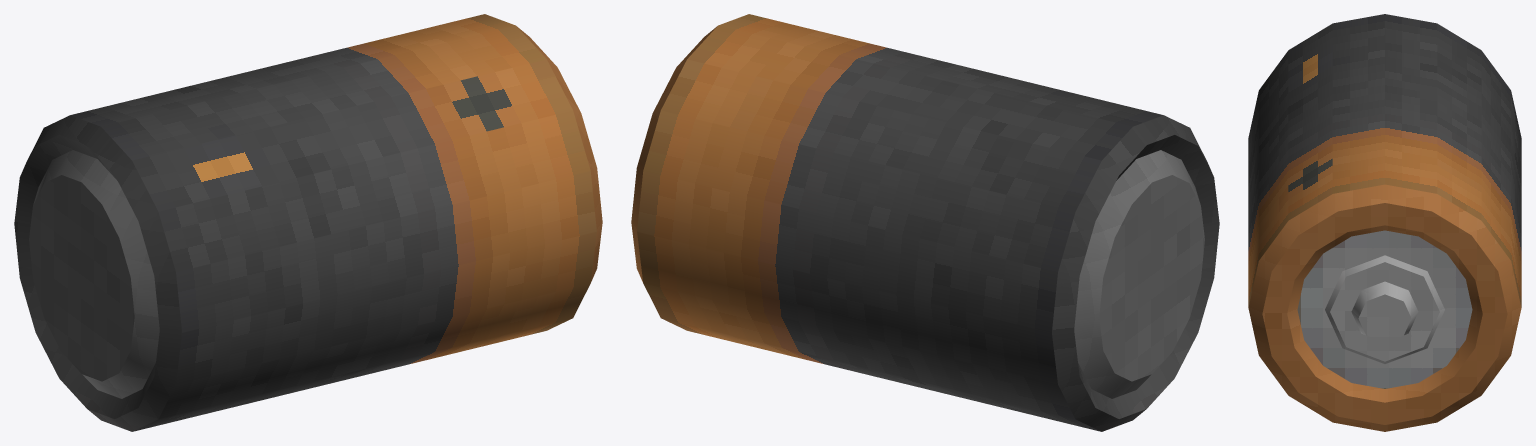
File: battery_mp_2.glb
3 renders of one model, left to right at view 1: azimuth 30°, elevation 25°; view 2: azimuth 150°, elevation 25°; view 3: azimuth 270°, elevation 25°, orthographic. The views are drawn at different scales.
Parts seen in each view (by area): view 1: battery_mp_2; view 2: battery_mp_2; view 3: battery_mp_2.
Part boxes in pixels (x1=…): battery_mp_2: x1=14, y1=14, x2=602, y2=431; battery_mp_2: x1=631, y1=14, x2=1219, y2=431; battery_mp_2: x1=1248, y1=14, x2=1521, y2=431.
Bounding box in the file's own units: 0.0883 × 0.054 × 0.054.
1 material, 1 textured.
